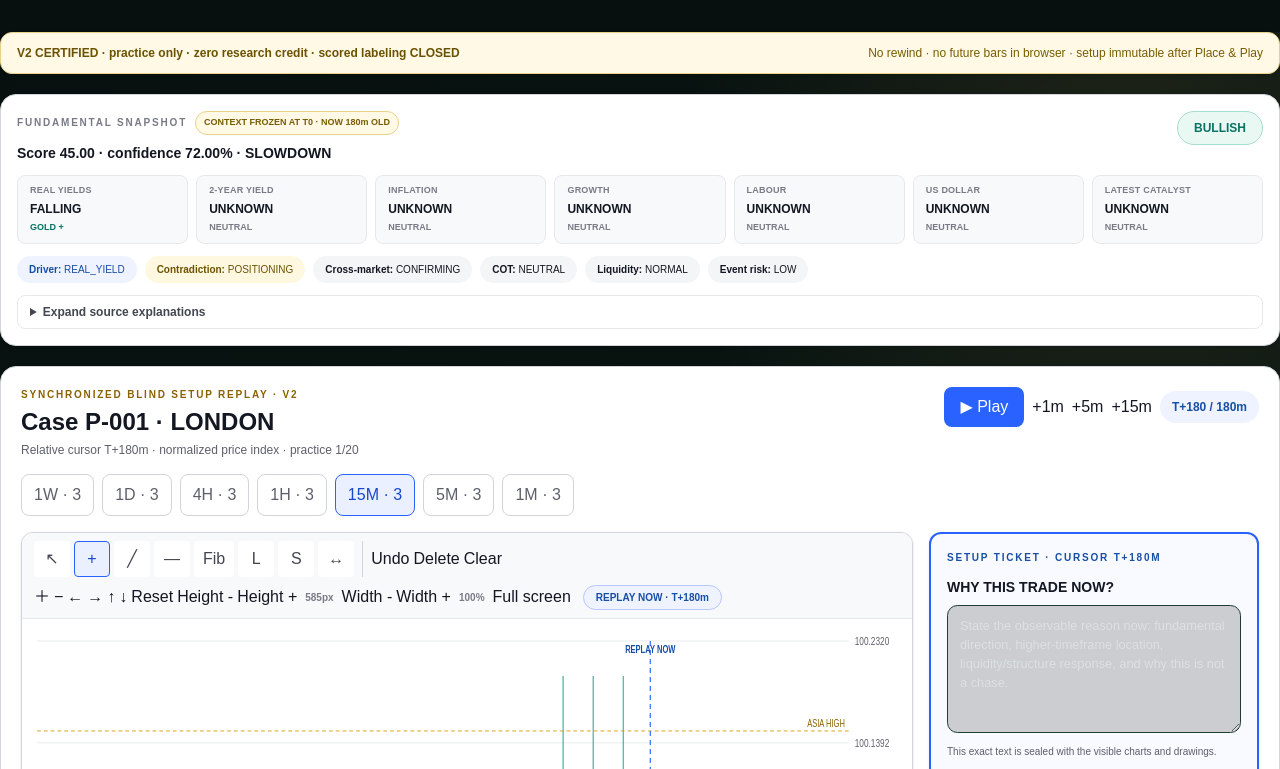
Test: BlindReplayV2Lab › keeps Play actionable at the blind-window limit and explains the next valid action
This screenshot has width=1280, height=769.
expect the heading "Case P-001 · LONDON" is shown: met, box [21,408,274,434]
Click the button with aria-label "Play synchronized replay": (984, 406) [944,386,1024,426]
(page scrolled)
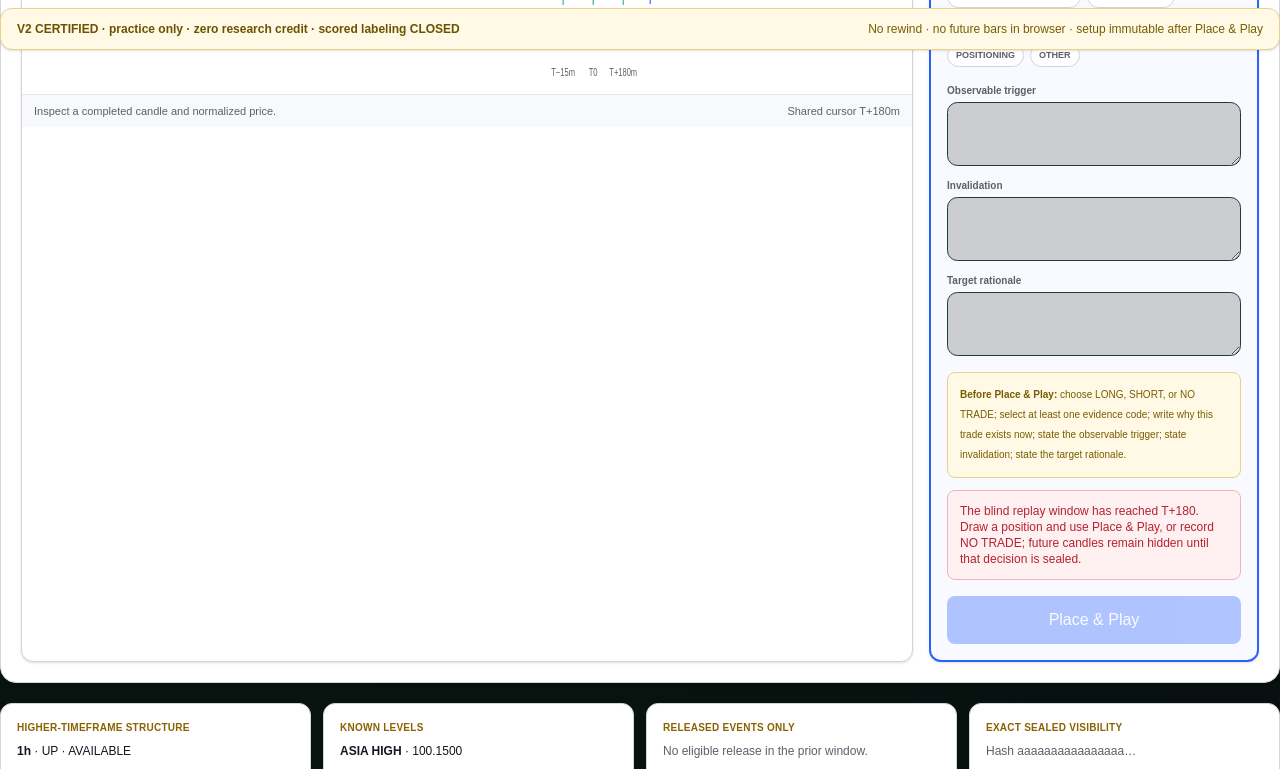
expect the text "blind replay window has reached T+180" is shown: met, box [960,504,1214,566]
